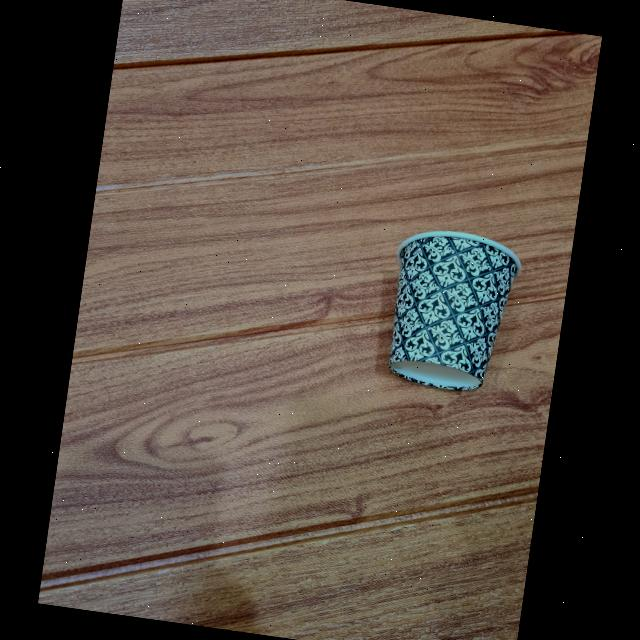trash: (363, 220, 528, 402)
